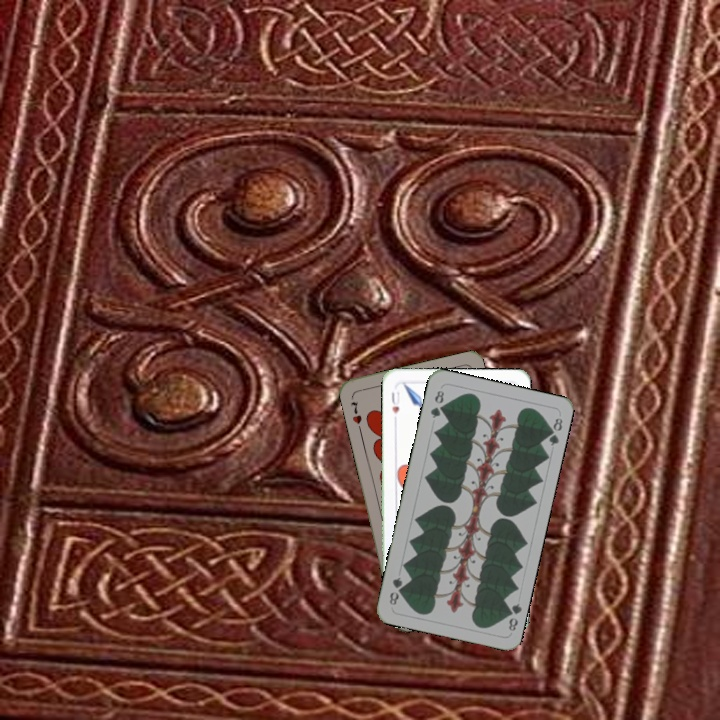G8: (501, 599, 524, 634), (426, 386, 447, 421)
H7: (346, 398, 364, 426)
HU: (388, 387, 402, 416)
